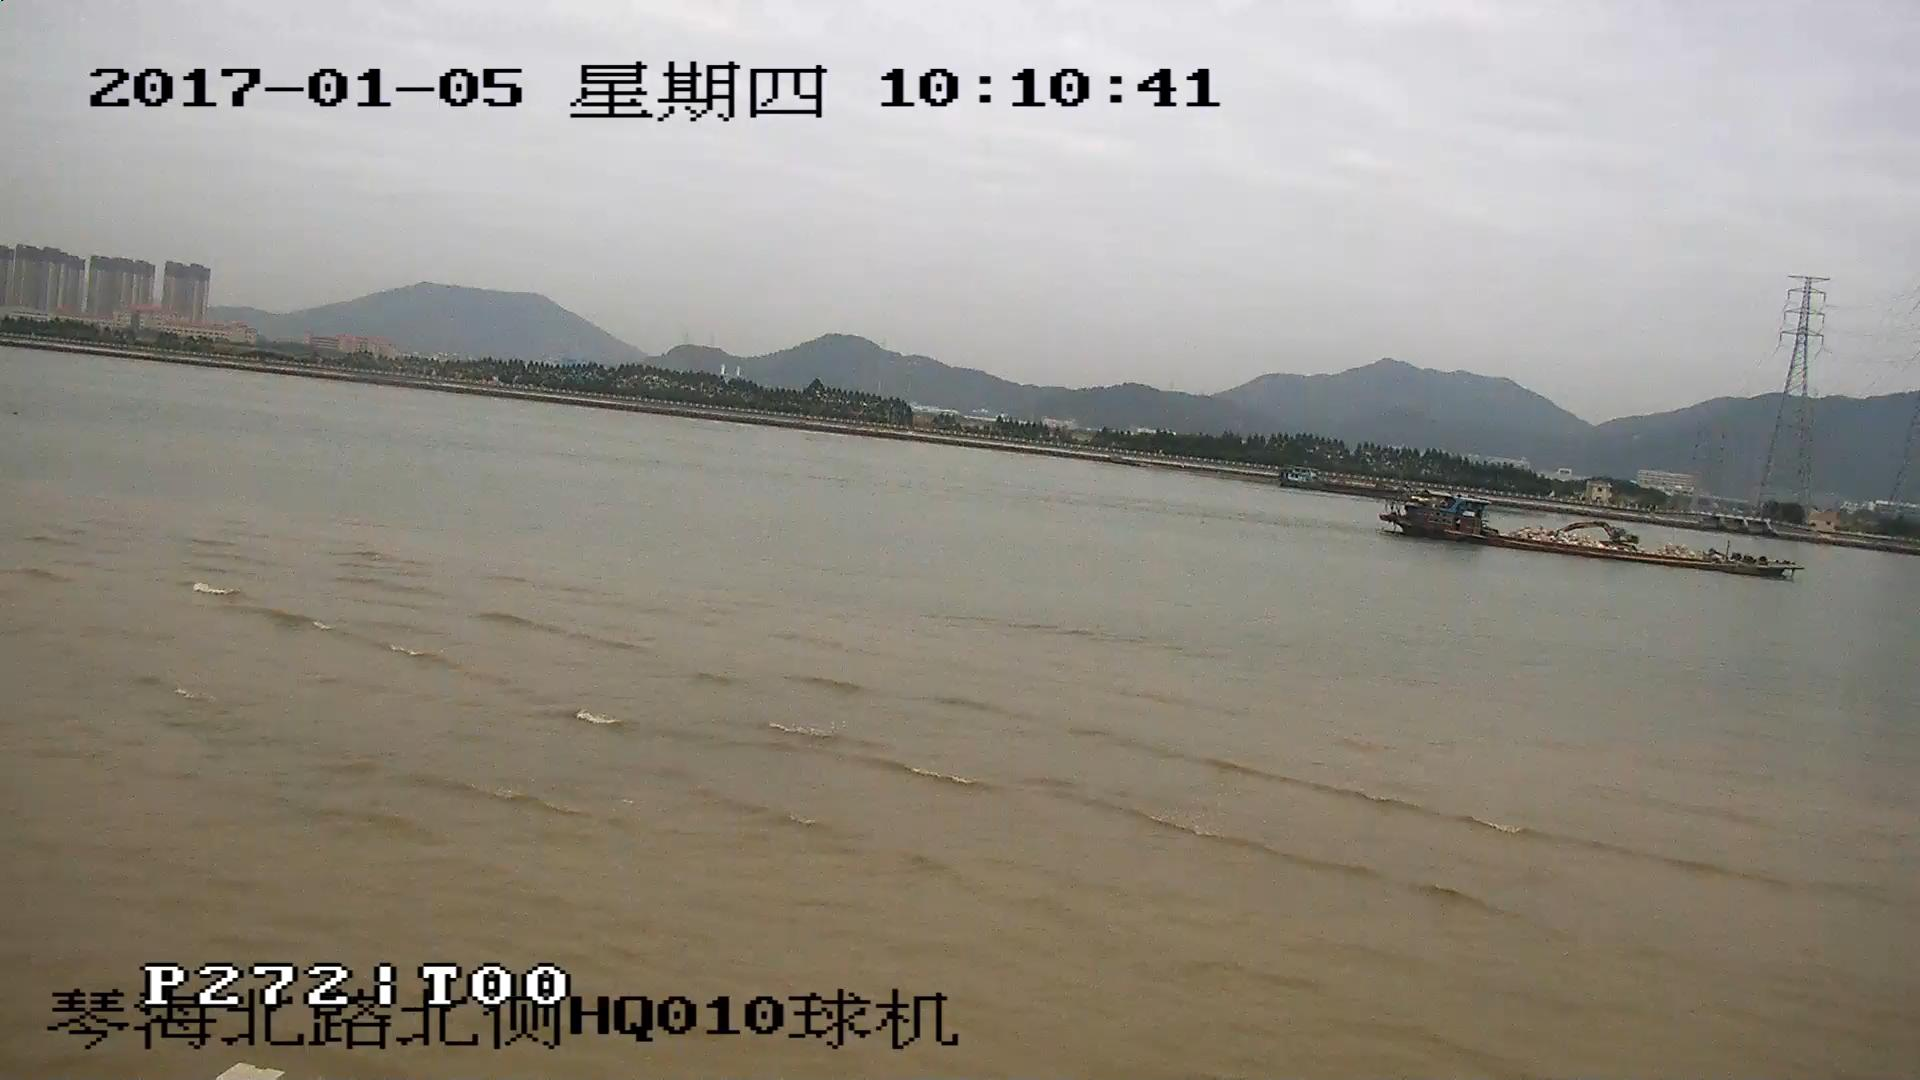bulk cargo carrier: (1382, 487, 1792, 577)
